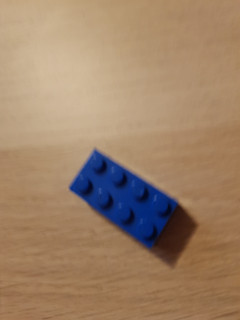2x4 blue: (67, 149, 180, 252)
